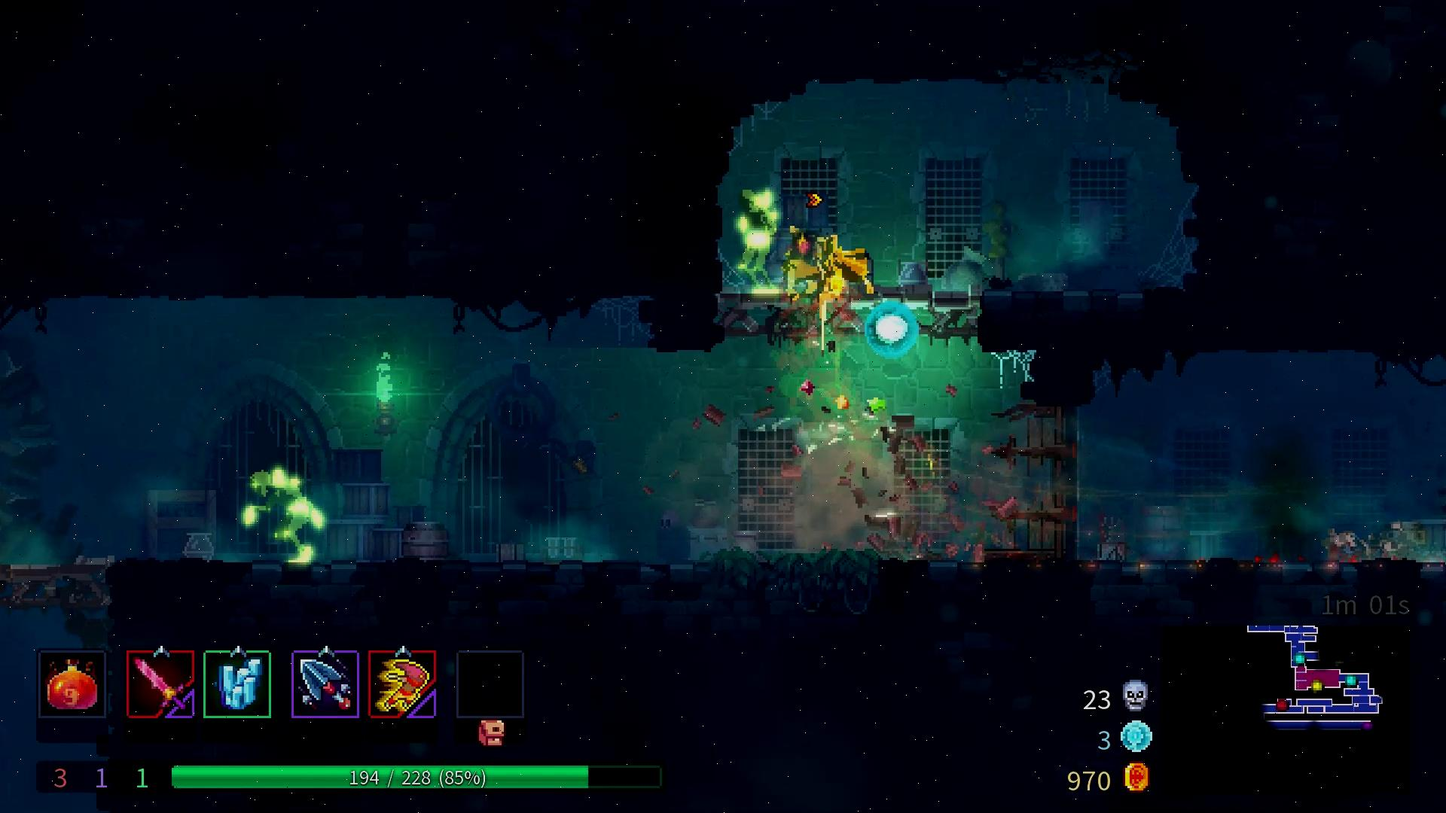gamer: (789, 226, 880, 334)
green1: (229, 457, 339, 568), (739, 188, 783, 295)
